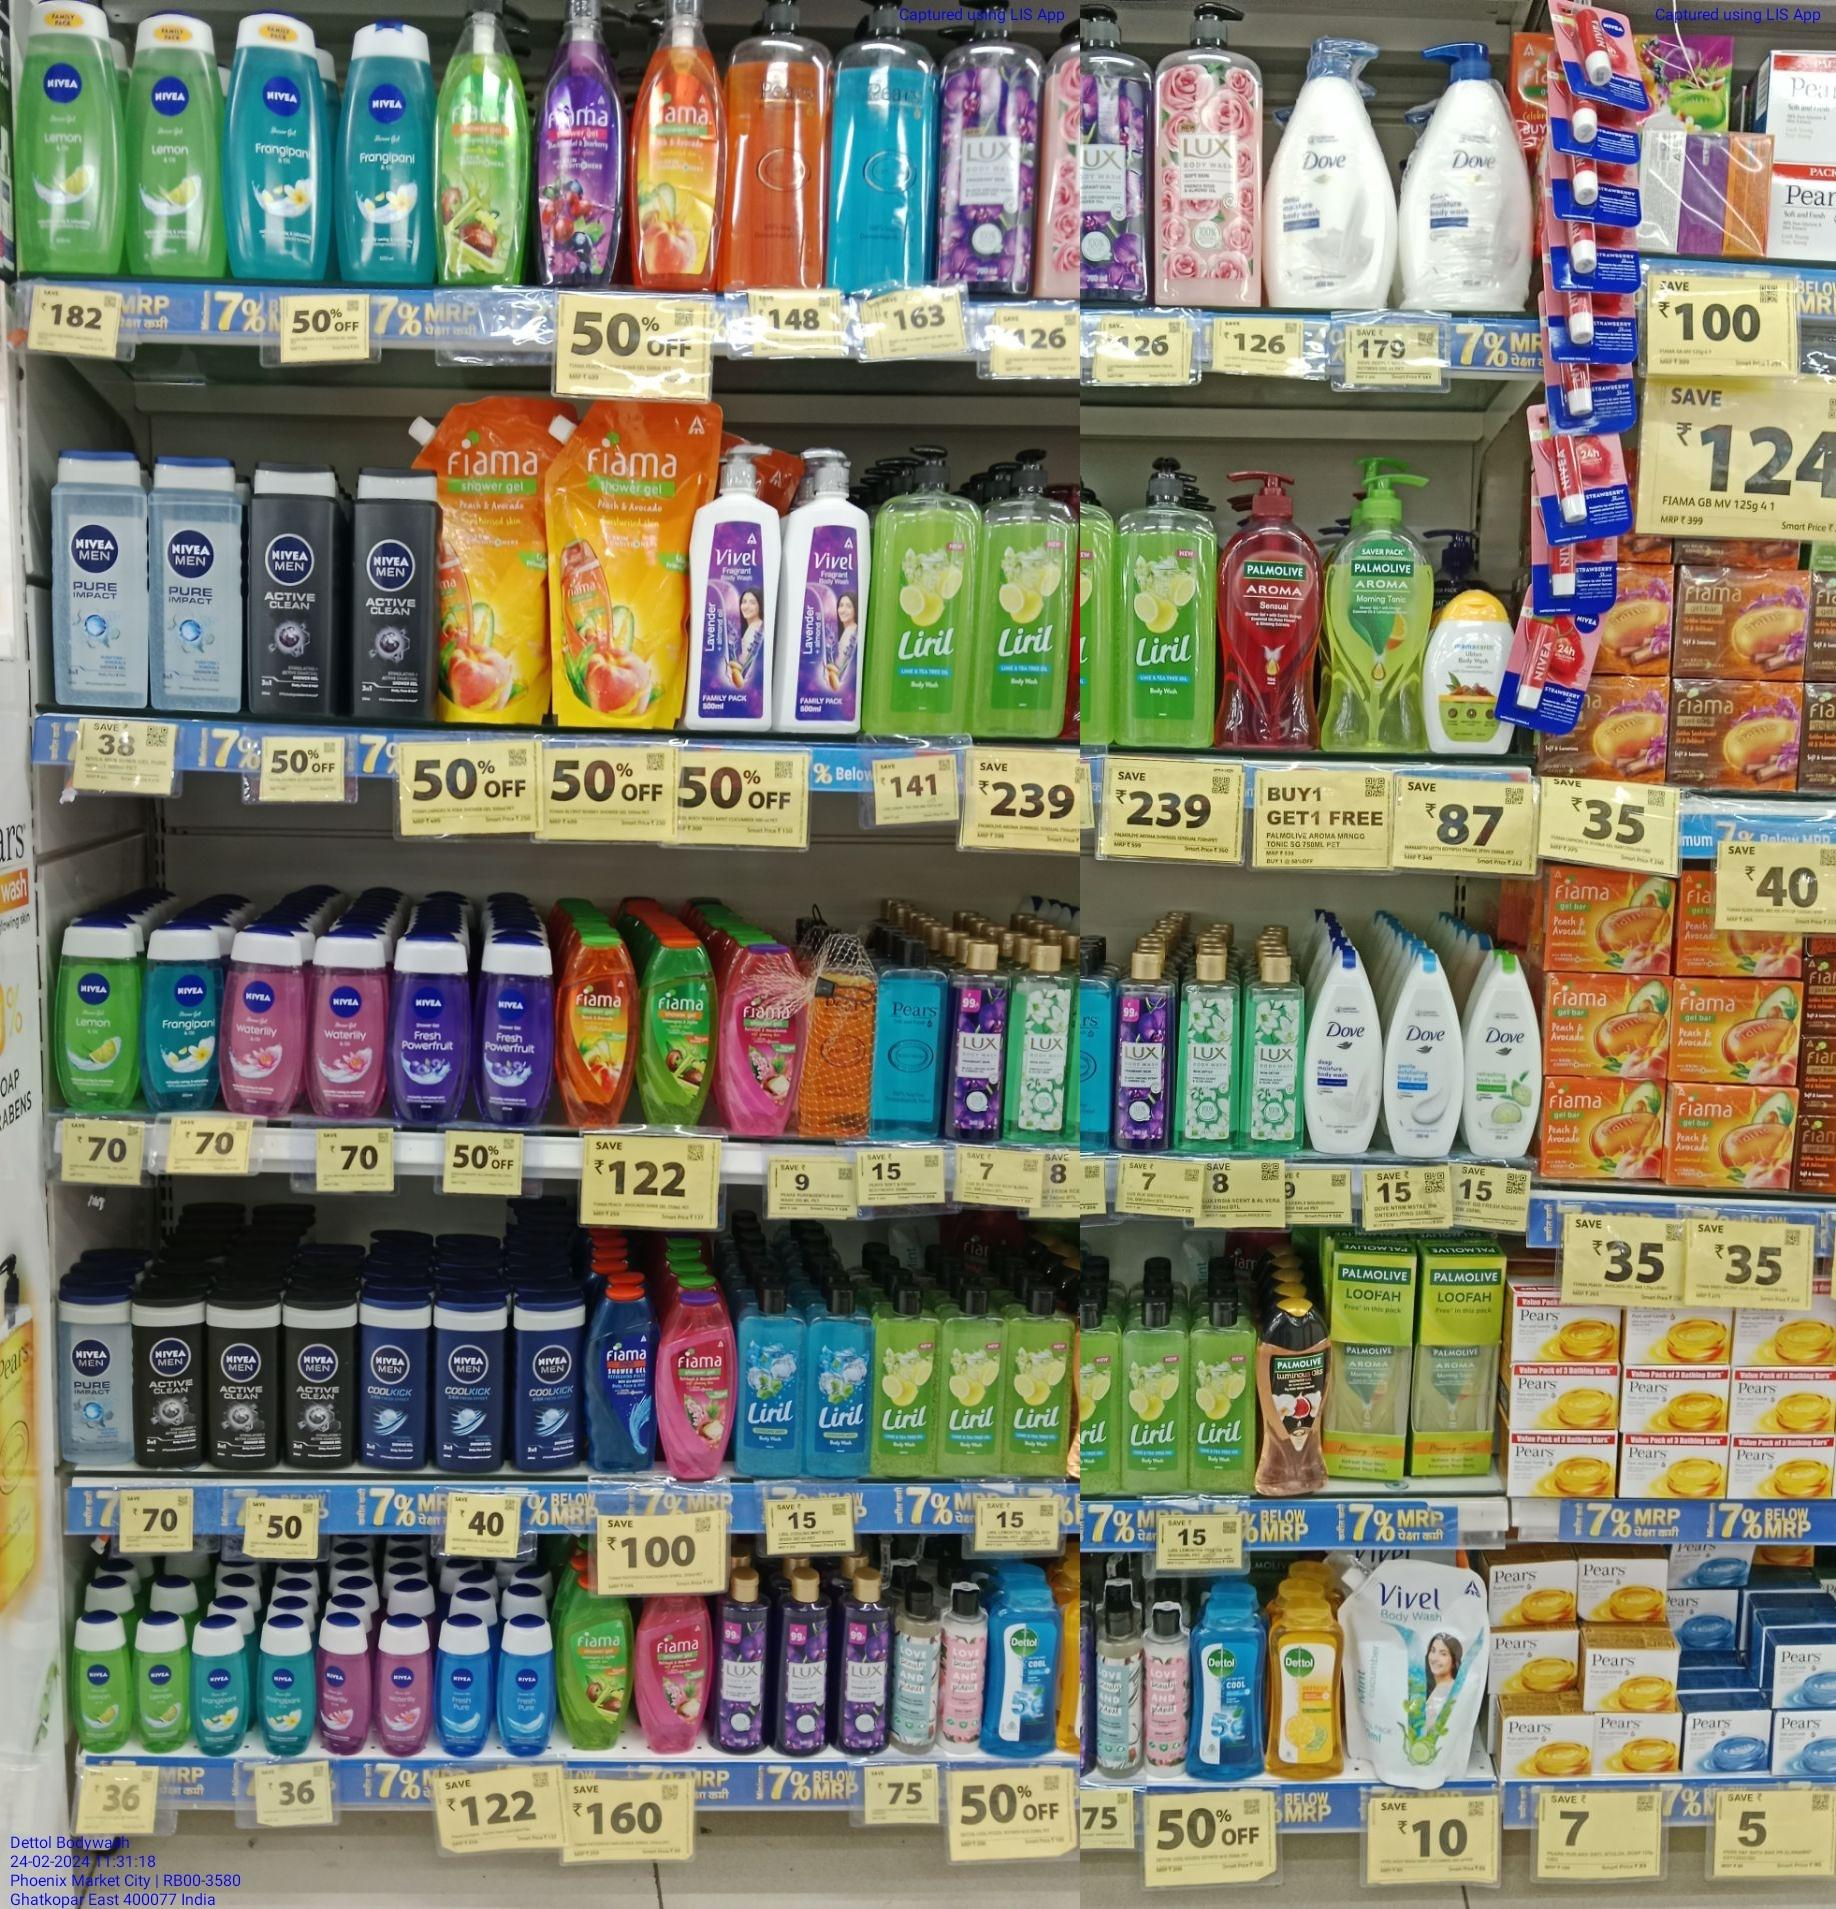Dettol_Bodywash_Cool: (1190, 1590, 1265, 1781), (985, 1585, 1060, 1756)
Dettol_Bodywash_Refresh: (1270, 1587, 1347, 1783)
Dove_Deep_Moisture_Body_Wash_250ML: (1304, 948, 1383, 1154)
Dove_Gentle_Exfoliating_Body_Wash_250ML: (1389, 953, 1461, 1161)
Dove_Refreshing_Body_Wash_250ML: (1469, 953, 1541, 1161)
Fiama_Shower_Gel_Lemongrass_and_Jojoba_250ML: (643, 937, 714, 1125), (559, 1590, 634, 1749)
Fiama_Shower_Gel_Patchouli_and_Macadamia_250ML: (721, 944, 801, 1139), (658, 1287, 730, 1479), (638, 1595, 713, 1749)
Fiama_Shower_Gel_Peach_and_Avocado_250ML: (561, 943, 638, 1125)
Liril_Cooling_Mint_Body_Wash_250ML: (738, 1283, 803, 1479), (803, 1287, 868, 1478)
Liril_Lime_and_Tea_Tree_Oil_Body_Wash_250ML: (1002, 1289, 1071, 1476), (875, 1290, 941, 1479), (1122, 1297, 1185, 1495), (1188, 1302, 1250, 1498), (943, 1283, 999, 1481)
Lux_Black_Orchid_Scent_and_Juniper_Oil_Body_Wash_245ML: (1113, 949, 1171, 1152), (951, 937, 1007, 1142), (776, 1566, 834, 1756), (837, 1570, 893, 1756), (721, 1570, 769, 1754)
Lux_Body_Wash_Skin_Detox_Freesia_Scent_and_Alove_Vera_245ML: (1176, 939, 1238, 1151), (1243, 946, 1301, 1151), (1011, 944, 1069, 1145)
Nivea_Shower_Gel_Frangipani_and_Oil_250ML: (230, 19, 326, 278), (341, 29, 435, 280), (150, 922, 222, 1115), (191, 1606, 247, 1756), (259, 1611, 314, 1759)
Nivea_Shower_Gel_Fresh_Powerfruit_250ML: (474, 939, 556, 1127), (394, 931, 467, 1125)
Nivea_Shower_Gel_Lemon_and_Oil_250ML: (22, 0, 123, 273), (138, 0, 223, 276), (55, 919, 141, 1116), (70, 1616, 126, 1754), (131, 1619, 188, 1745)
Nivea_Shower_Gel_Waterlily_and_Oil_250ML: (309, 939, 387, 1113), (227, 931, 302, 1108), (320, 1612, 373, 1762), (378, 1621, 428, 1754)
Palmolive_Luminous_Oils_With_White_Orchid_Shower_Gel_250ML: (1258, 1301, 1330, 1491)
Pears_Pure_Glycerin_and_Mint_Extracts_Body_Wash_250ML: (875, 934, 948, 1144)
